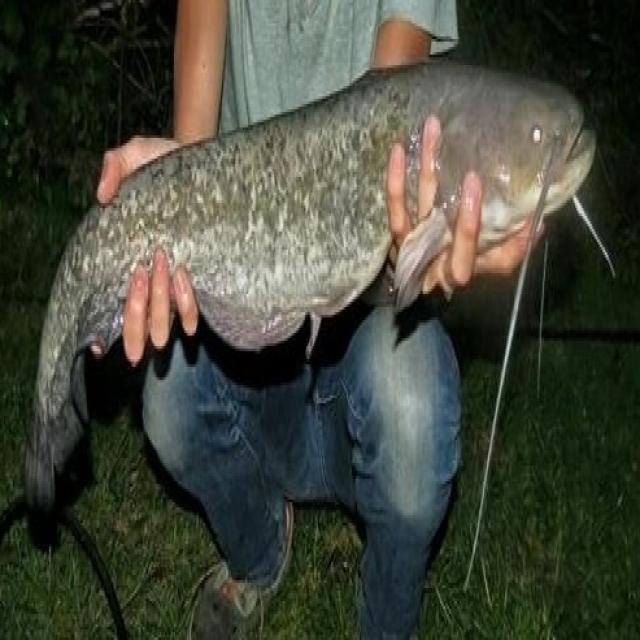Catfish: (9, 42, 626, 554)
